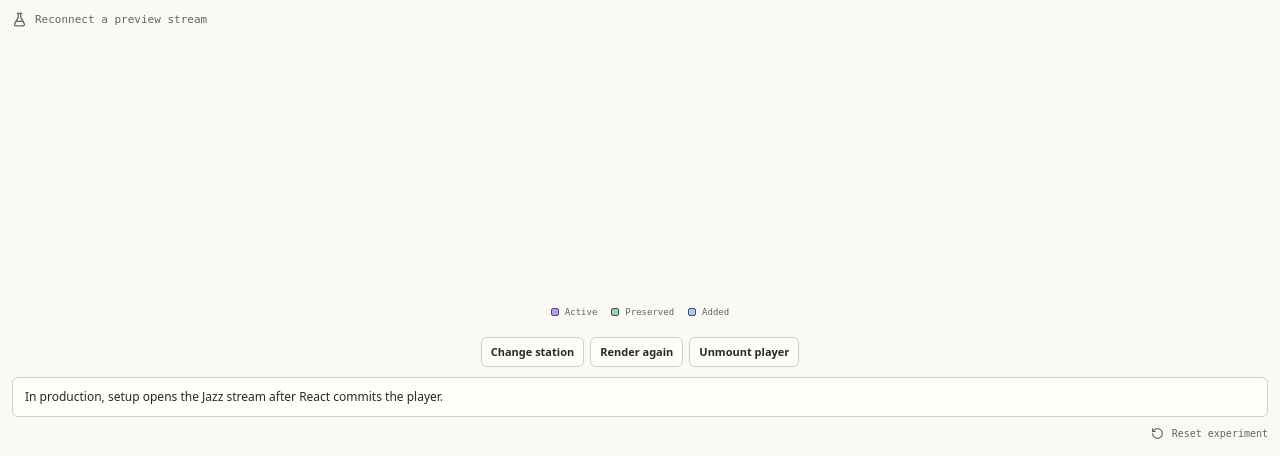
Test: Hands-on experiments › closes the previous station on a change and cleans up the current station on unmount
The width and height of the screenshot is (1280, 456).
Click the button "Change station" at (532,352), box top-left (481, 337), bottom-right (584, 367)
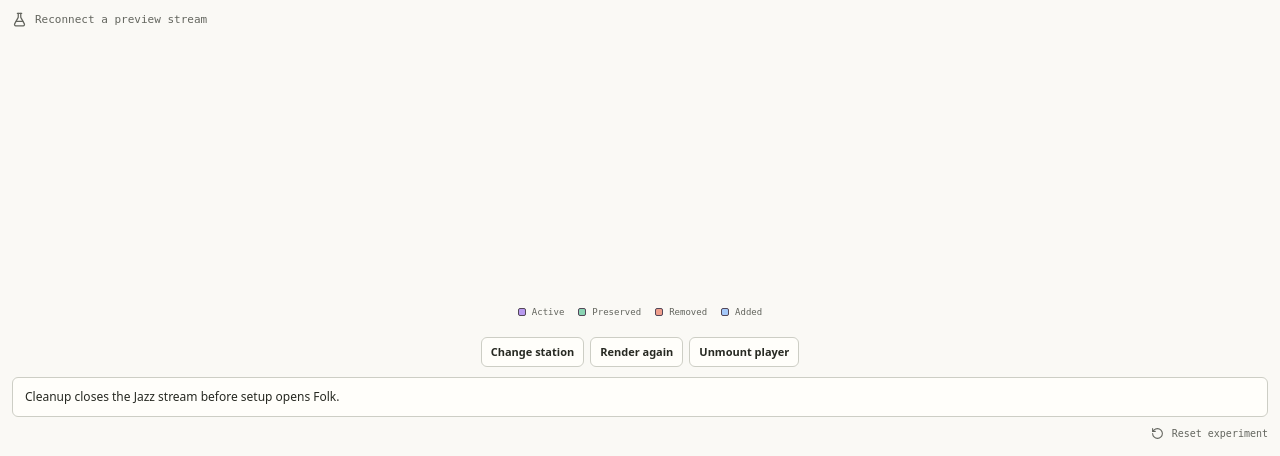
Click the button "Unmount player" at (744,352), box top-left (689, 337), bottom-right (799, 367)
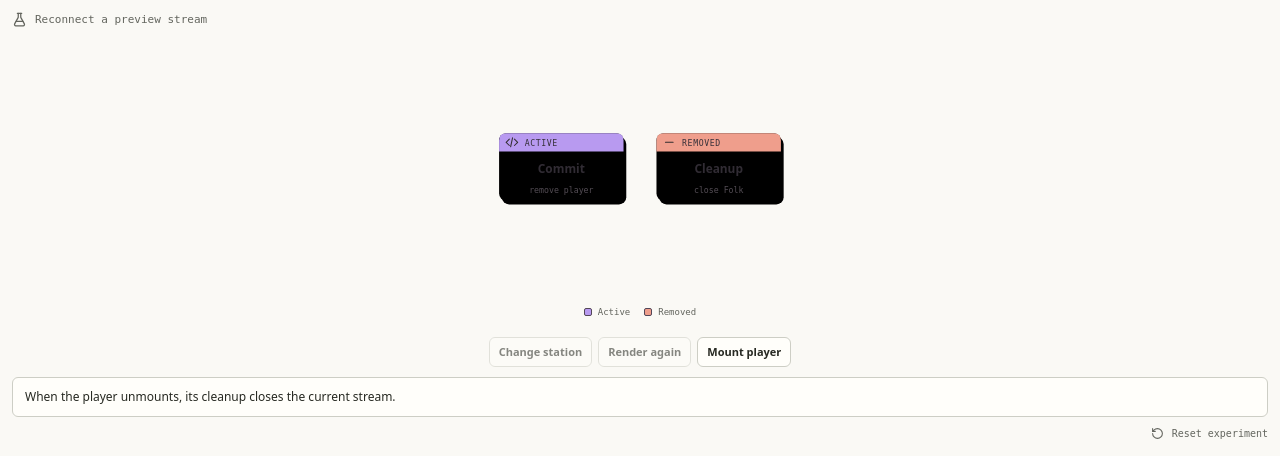
Check: the picture no longer shows "open Folk"
